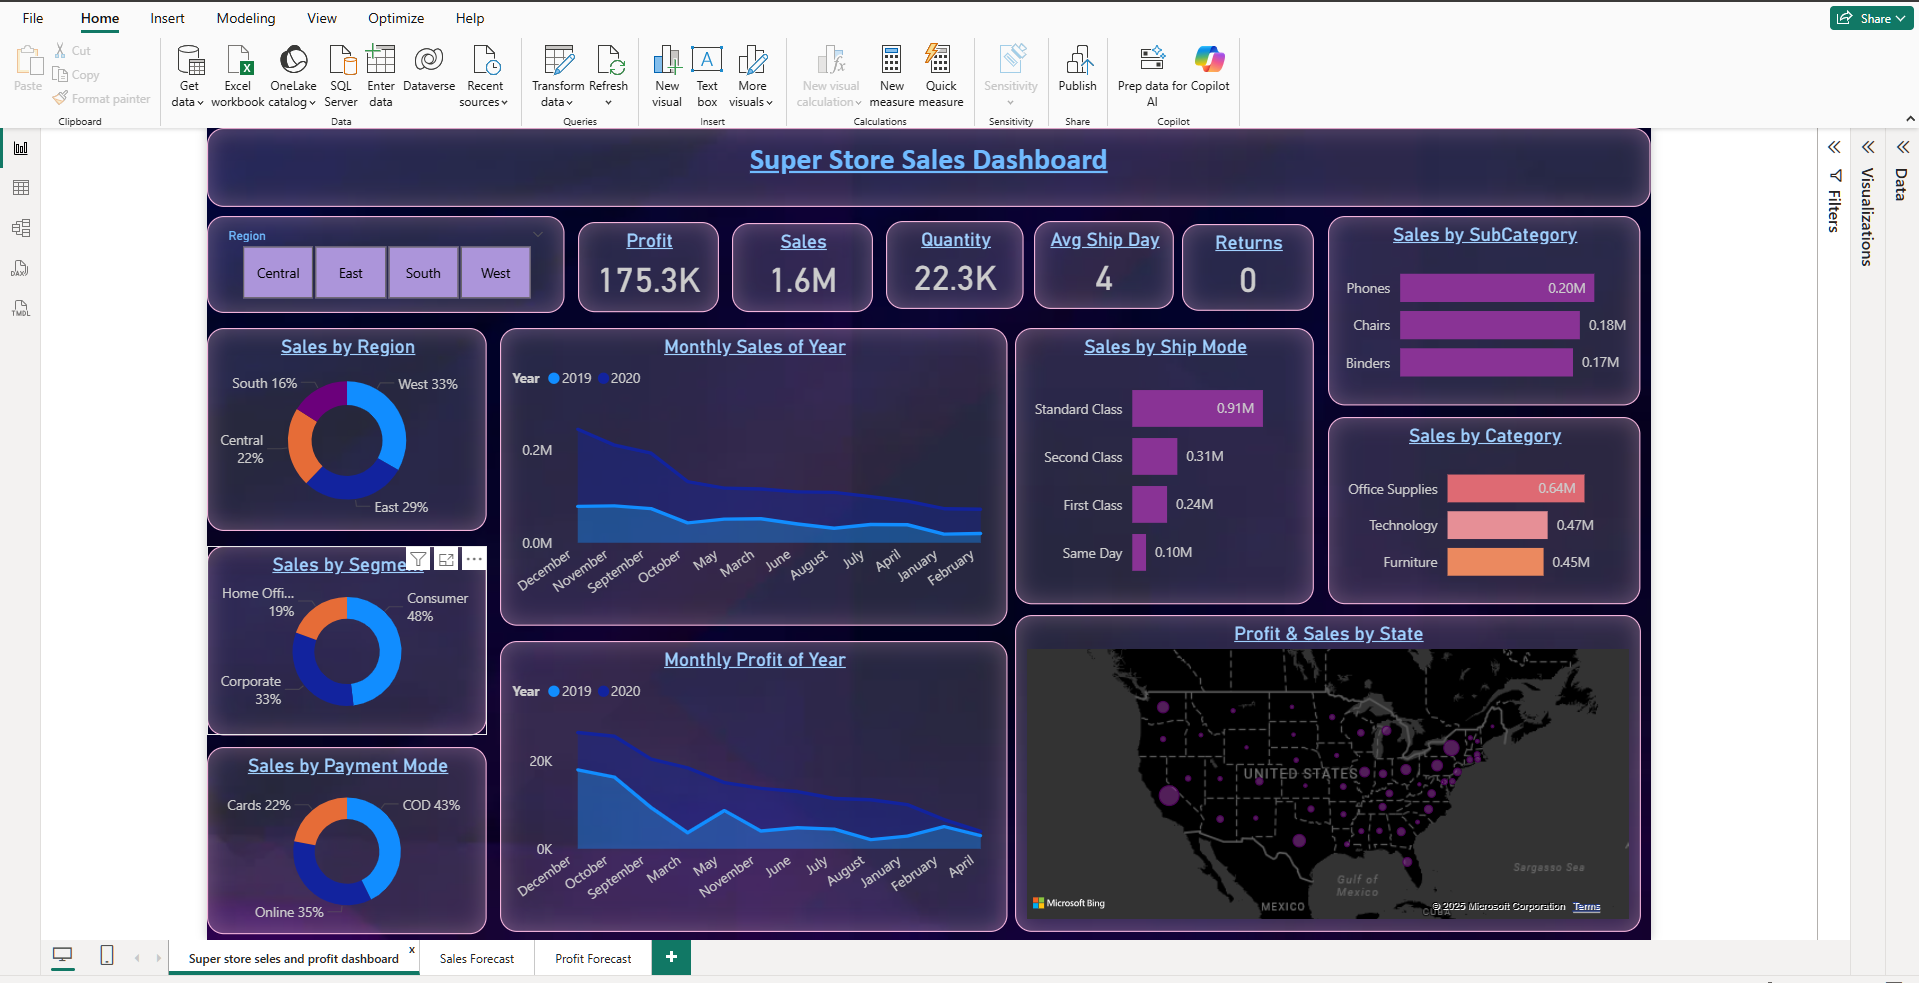

This screenshot's page, from the dashboard's own definition file:
{"tool":"powerbi","page":{"name":"Super store seles and profit dashboard","canvas":[1280,720],"ordinal":0},"visuals":[{"type":"clusteredBarChart","title":"Sales by Category","fields":{"Category":["SuperStore_Sales_Dataset.Category"],"Y":["Sum(SuperStore_Sales_Dataset.Sales)"]},"box":[994.2,256.4,276.9,166.1],"z":0},{"type":"clusteredBarChart","title":"Sales by SubCategory","fields":{"Category":["SuperStore_Sales_Dataset.Sub-Category"],"Y":["Sum(SuperStore_Sales_Dataset.Sales)"]},"box":[994.2,77.7,276.9,167.9],"z":1000},{"type":"clusteredBarChart","title":"Sales by Ship Mode","fields":{"Category":["SuperStore_Sales_Dataset.Ship Mode"],"Y":["Sum(SuperStore_Sales_Dataset.Sales)"]},"box":[716.4,177.8,265.3,244.7],"z":2000},{"type":"stackedAreaChart","title":"Monthly Sales of Year","fields":{"Y":["Sum(SuperStore_Sales_Dataset.Sales)"],"Series":["SuperStore_Sales_Dataset.Order Date Hierarchy.Year"],"Category":["SuperStore_Sales_Dataset.Month Name"]},"box":[259.9,177.8,450.2,264.4],"z":3000},{"type":"stackedAreaChart","title":"Monthly Profit of Year","fields":{"Y":["Sum(SuperStore_Sales_Dataset.Profit)"],"Series":["SuperStore_Sales_Dataset.Order Date Hierarchy.Year"],"Category":["SuperStore_Sales_Dataset.Month Name"]},"box":[259.9,454.7,450.2,258.1],"z":4000},{"type":"map","title":"Profit & Sales by State","fields":{"Category":["SuperStore_Sales_Dataset.State"],"Size":["Sum(SuperStore_Sales_Dataset.Sales)"]},"box":[716.4,431.4,554.7,281.4],"z":5000},{"type":"donutChart","title":"Sales by Segment","fields":{"Category":["SuperStore_Sales_Dataset.Segment"],"Y":["Sum(SuperStore_Sales_Dataset.Sales)"]},"box":[0,370.7,248.3,167.9],"z":6000},{"type":"donutChart","title":"Sales by Payment Mode","fields":{"Category":["SuperStore_Sales_Dataset.Payment Mode"],"Y":["Sum(SuperStore_Sales_Dataset.Sales)"]},"box":[0,548.4,248.3,166.1],"z":7000},{"type":"slicer","fields":{"Values":["SuperStore_Sales_Dataset.Region"]},"box":[0,77.7,317.1,85.8],"z":8000},{"type":"textbox","box":[0,0,1280,70],"z":9000},{"type":"card","title":"Sales","fields":{"Values":["Sum(SuperStore_Sales_Dataset.Sales)"]},"box":[465.4,84,125.1,78.6],"z":10000},{"type":"card","title":"Avg Ship Day","fields":{"Values":["Avg(SuperStore_Sales_Dataset.Avg Shipping Date)"]},"box":[733.3,82.2,124.2,77.7],"z":11000},{"type":"card","title":"Profit","fields":{"Values":["Sum(SuperStore_Sales_Dataset.Profit)"]},"box":[328.7,83.1,125.1,80.4],"z":12000},{"type":"card","title":"Quantity","fields":{"Values":["Sum(SuperStore_Sales_Dataset.Quantity)"]},"box":[602,82.2,122.4,77.7],"z":13000},{"type":"donutChart","title":"Sales by Region","fields":{"Y":["Sum(SuperStore_Sales_Dataset.Sales)"],"Category":["SuperStore_Sales_Dataset.Region"]},"box":[0,177.8,248.3,180.4],"z":14000},{"type":"card","title":"Returns","fields":{"Values":["Min(SuperStore_Sales_Dataset.Returns)"]},"box":[864.6,84.9,117,76.8],"z":15000}]}

Visuals, with their boxes on the page's 1280x720 design canvas (x1, y1, x2, y2). These are canvas units, not pixel positions in the 1919x983 screenshot, which may show the page scaled, cropped or inside an application window:
"Sales by Category" clusteredBarChart: [994,256,1271,422]
"Sales by SubCategory" clusteredBarChart: [994,78,1271,246]
"Sales by Ship Mode" clusteredBarChart: [716,178,982,422]
"Monthly Sales of Year" stackedAreaChart: [260,178,710,442]
"Monthly Profit of Year" stackedAreaChart: [260,455,710,713]
"Profit & Sales by State" map: [716,431,1271,713]
"Sales by Segment" donutChart: [0,371,248,539]
"Sales by Payment Mode" donutChart: [0,548,248,714]
slicer - SuperStore_Sales_Dataset.Region: [0,78,317,164]
textbox: [0,0,1280,70]
"Sales" card: [465,84,590,163]
"Avg Ship Day" card: [733,82,858,160]
"Profit" card: [329,83,454,164]
"Quantity" card: [602,82,724,160]
"Sales by Region" donutChart: [0,178,248,358]
"Returns" card: [865,85,982,162]
